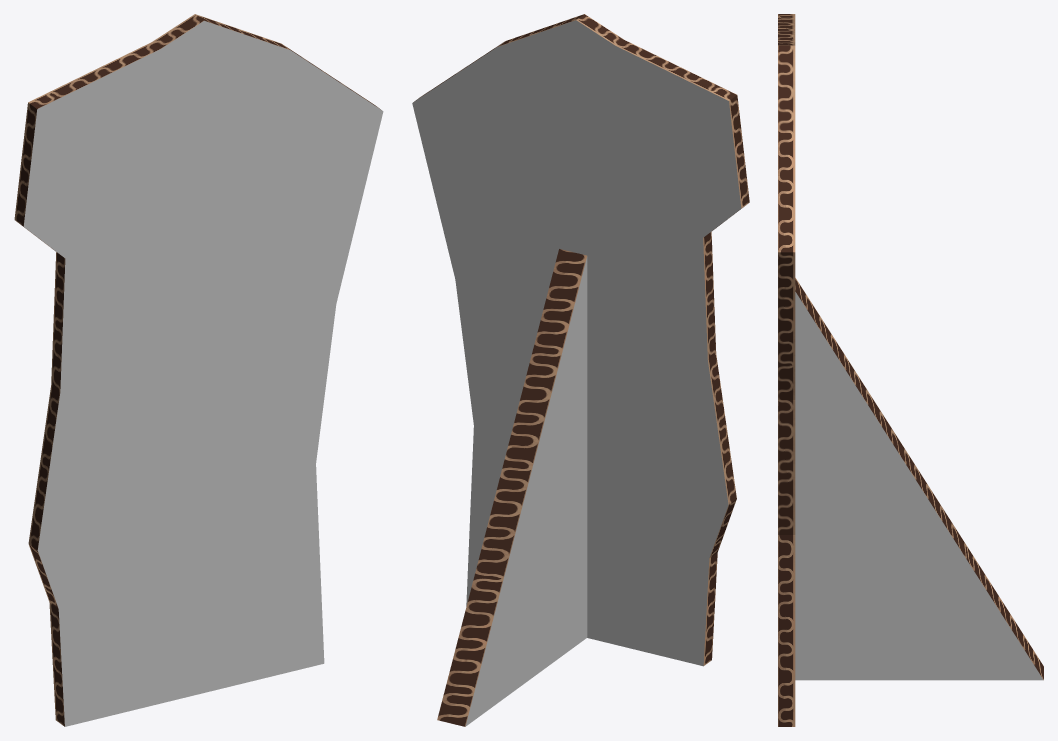
File: Cactus_3.fbx
3 renders of one model, left to right at view 1: azimuth 30°, elevation 25°; view 2: azimuth 150°, elevation 25°; view 3: azimuth 270°, elevation 25°, orthographic. The views are drawn at different scales.
Parts seen in each view (by area): view 1: Cactus 3_LOD0; view 2: Cactus 3_LOD0; view 3: Cactus 3_LOD0.
Part boxes in pixels (box(x1,y1,x2,y2)): Cactus 3_LOD0: box(14, 14, 383, 726); Cactus 3_LOD0: box(412, 14, 749, 726); Cactus 3_LOD0: box(778, 14, 1043, 726).
Bounding box in the file's own units: 202 × 361 × 139.
